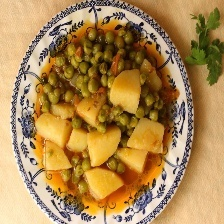sabzi: (33, 21, 179, 217)
